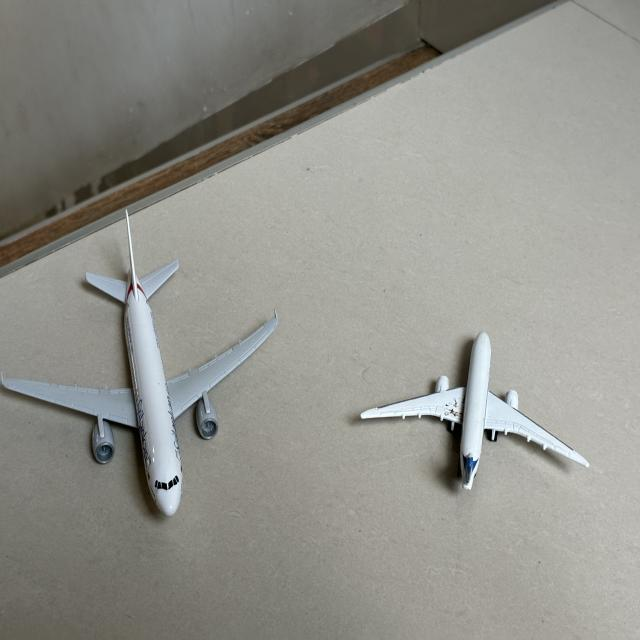air-plane: (87, 220, 277, 470), (3, 377, 182, 513), (459, 387, 588, 488), (362, 377, 470, 428), (468, 334, 490, 388), (126, 315, 139, 387)
